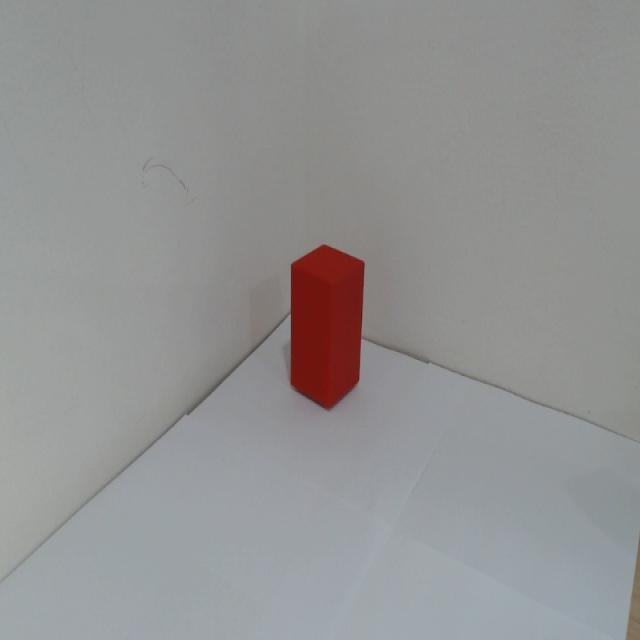cube: (286, 239, 367, 414)
